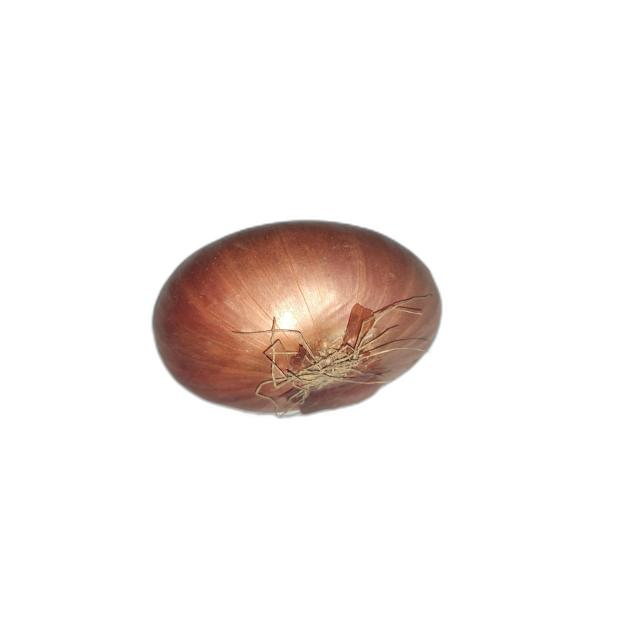onion: (152, 220, 444, 419)
